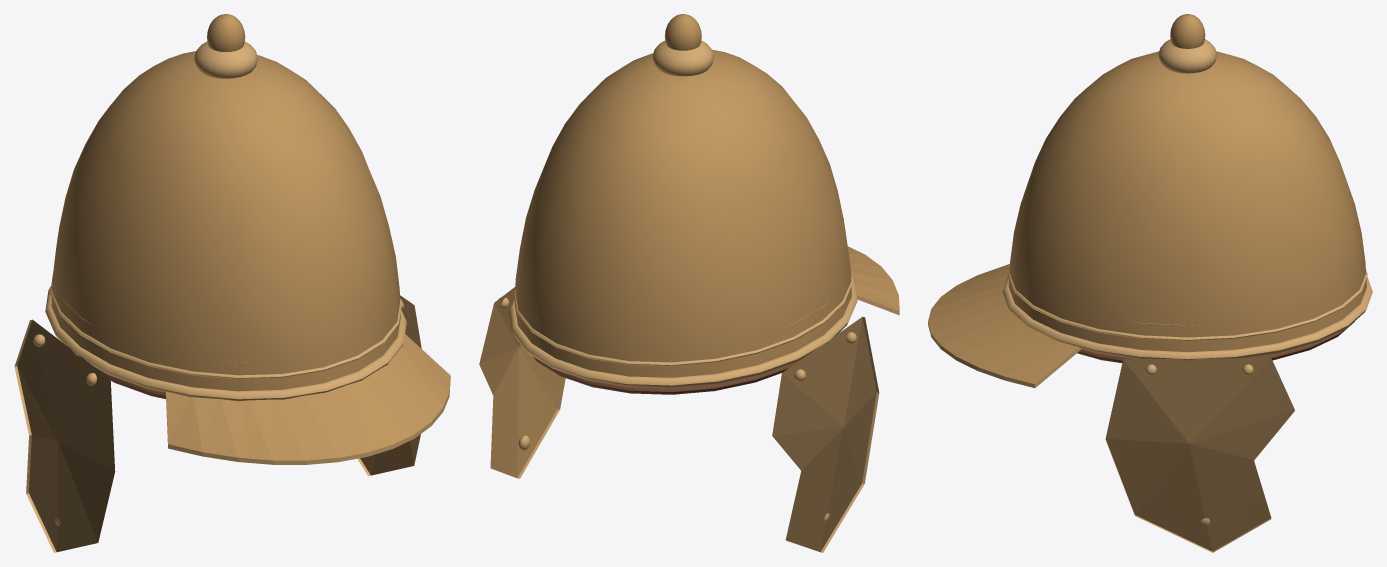
File: helmet_lod2.glb
The picture shows the model from 3 angles, left to right: view 1: azimuth 30°, elevation 25°; view 2: azimuth 150°, elevation 25°; view 3: azimuth 270°, elevation 25°; orthographic projection. The views are drawn at different scales.
Parts seen in each view (by area): view 1: Viva_Montefortino_study; view 2: Viva_Montefortino_study; view 3: Viva_Montefortino_study.
Boxes of the visible parts, x1,y1,x2,y2 form: Viva_Montefortino_study: (14, 14, 450, 552); Viva_Montefortino_study: (479, 14, 899, 552); Viva_Montefortino_study: (928, 14, 1372, 552).
Bounding box in the file's own units: 0.2453 × 0.351 × 0.3032.
